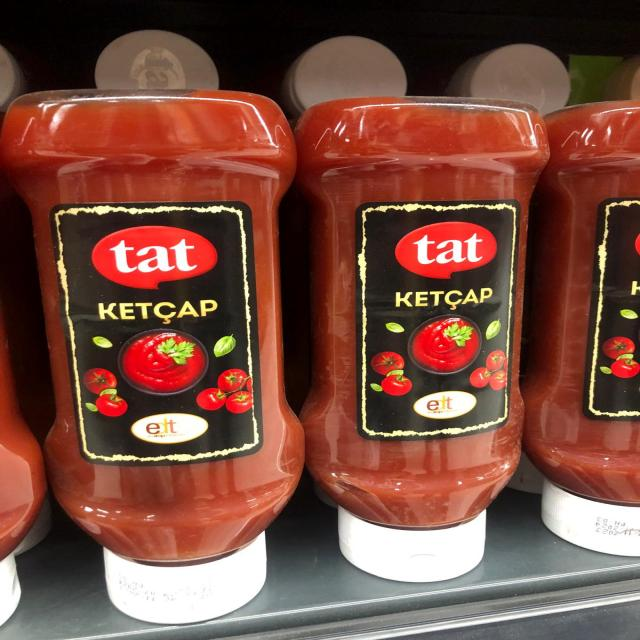ketchup: (0, 81, 297, 640), (295, 88, 552, 581)
